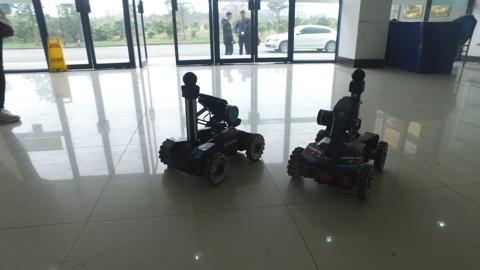chariot: (285, 64, 406, 201), (152, 68, 267, 190)
